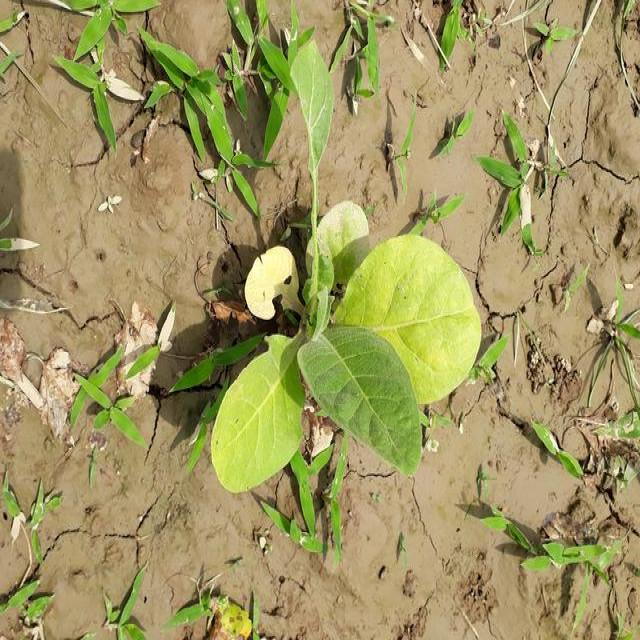crop: (203, 188, 494, 500)
